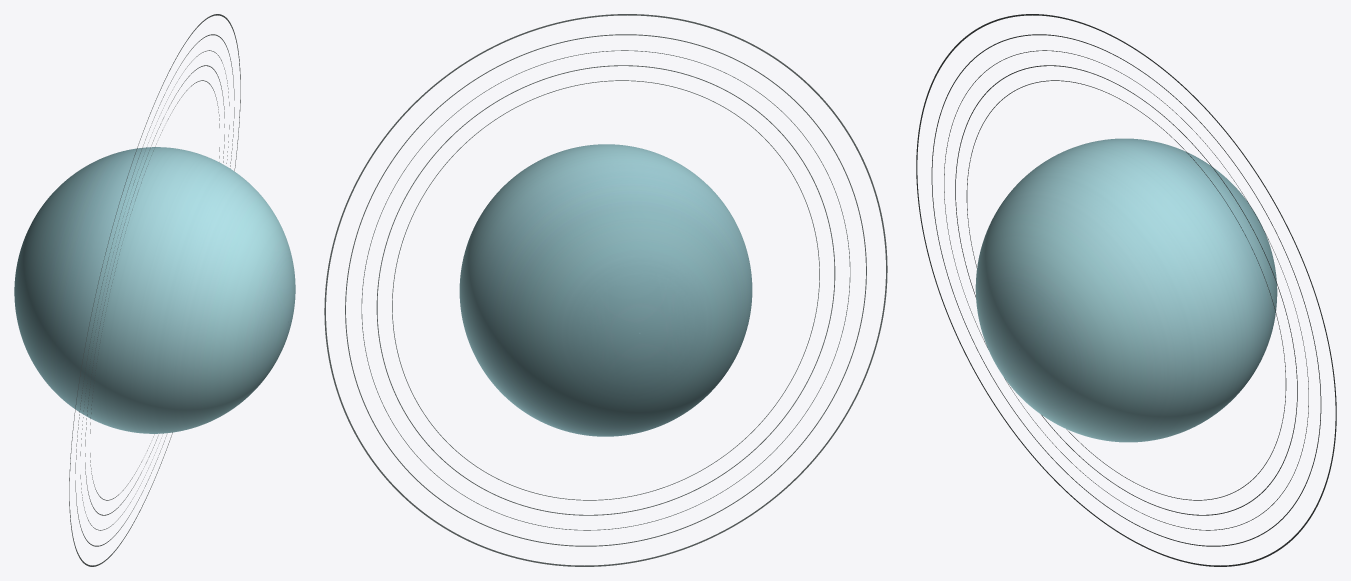
The model's file is uranus.glb.
3 renders of one model, left to right at view 1: azimuth 30°, elevation 25°; view 2: azimuth 150°, elevation 25°; view 3: azimuth 270°, elevation 25°, orthographic. The views are drawn at different scales.
Parts seen in each view (by area): view 1: Uranus, UranusRing4, UranusRing3, UranusRing1; view 2: Uranus, UranusRing4, UranusRing3, UranusRing1, UranusRing2, UranusRing0; view 3: Uranus, UranusRing4, UranusRing3, UranusRing1, UranusRing2, UranusRing0.
Part boxes in pixels (x1,y1,x2,y2): Uranus: (14,147,295,433); UranusRing4: (69,14,240,566); UranusRing3: (75,34,234,546); UranusRing1: (85,65,224,515); Uranus: (459,144,752,436); UranusRing4: (324,14,887,566); UranusRing3: (345,34,866,546); UranusRing1: (376,65,835,515); UranusRing2: (361,50,850,530); UranusRing0: (392,80,819,500); Uranus: (975,138,1277,442); UranusRing4: (916,14,1336,566); UranusRing3: (931,34,1321,546); UranusRing1: (955,65,1297,515); UranusRing2: (944,50,1308,530); UranusRing0: (966,80,1286,500).
Bounding box in the file's own units: 4.02 × 5.5 × 3.86.
2 materials, 1 textured.
